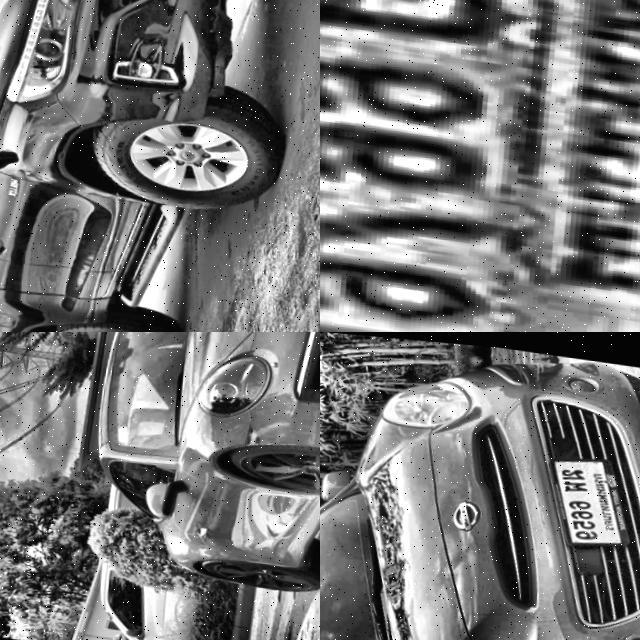license-plate: (320, 0, 640, 332), (538, 439, 640, 548)
